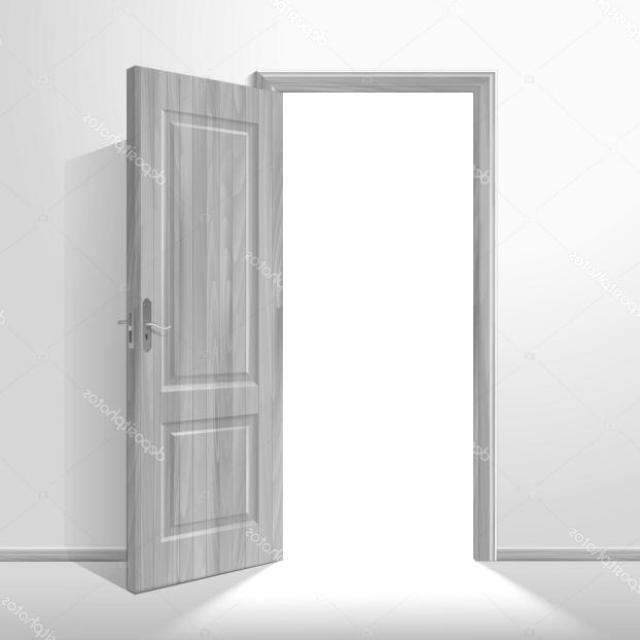door: (124, 63, 284, 593)
